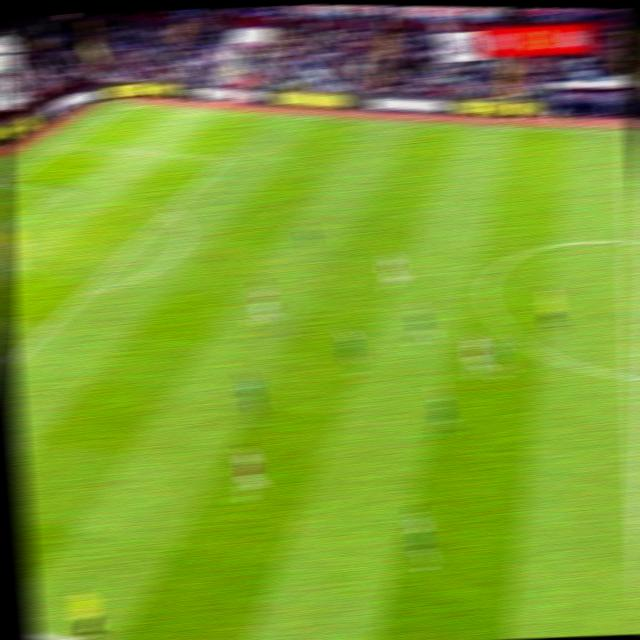bigarea_top_inner: (212, 148, 236, 169)
bigarea_top_outter: (59, 136, 81, 153)
bottom_arc_area_intersection: (74, 282, 99, 302)
corner: (121, 98, 144, 112)
halfcircle_bottom: (618, 359, 640, 390)
halfcircle_top: (615, 226, 640, 253)
midline_top_intersection: (615, 121, 638, 140)
smallarea_top_inner: (50, 182, 74, 200)
smallarea_top_outter: (1, 176, 19, 192)
top_arc_area_intersection: (159, 200, 183, 219)
